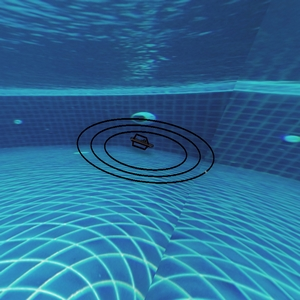circle: (61, 107, 220, 200)
submarine: (129, 133, 151, 150)
